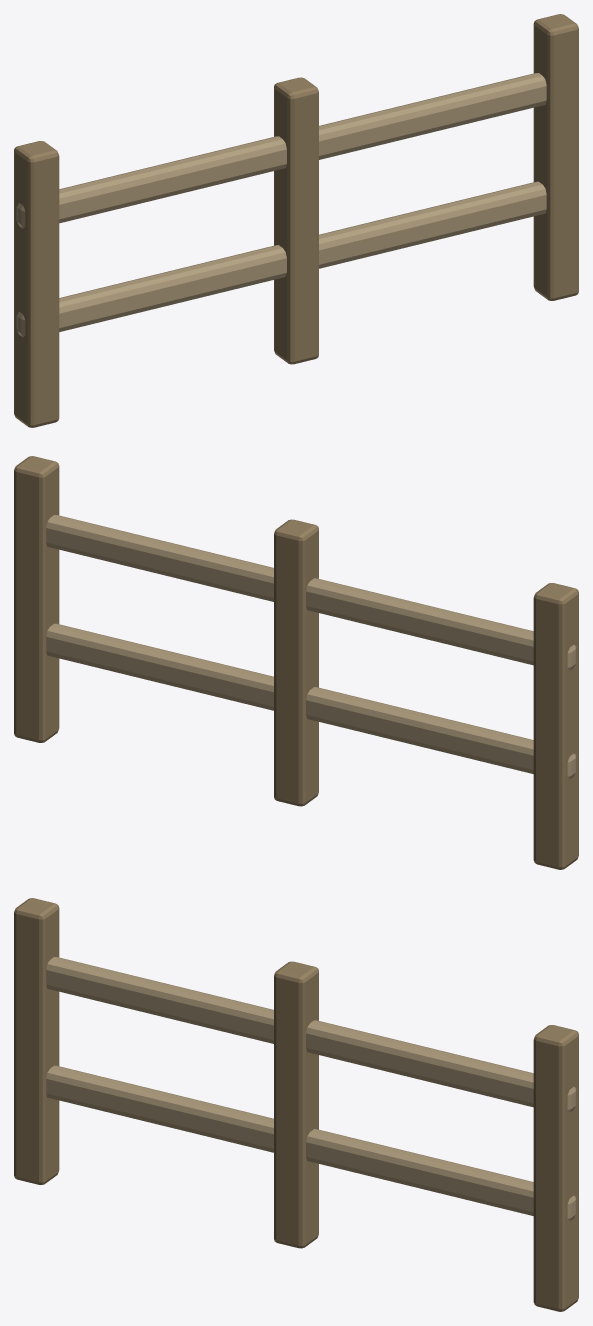
File: Split_Rail_Fence_Barren.glb
3 views of the same model, one above another, from view 1: azimuth 30°, elevation 25°; view 2: azimuth 150°, elevation 25°; view 3: azimuth 330°, elevation 25° (orthographic).
Visible parts, largest first — view 1: Structure; view 2: Structure; view 3: Structure.
Boxes of the visible parts, x1,y1,x2,y2 form: Structure: (14,14,578,427); Structure: (14,456,578,869); Structure: (14,898,578,1311).
Bounding box in the file's own units: 3.2 × 1.5 × 0.18.
